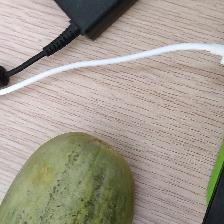gua: (37, 145, 101, 224)
